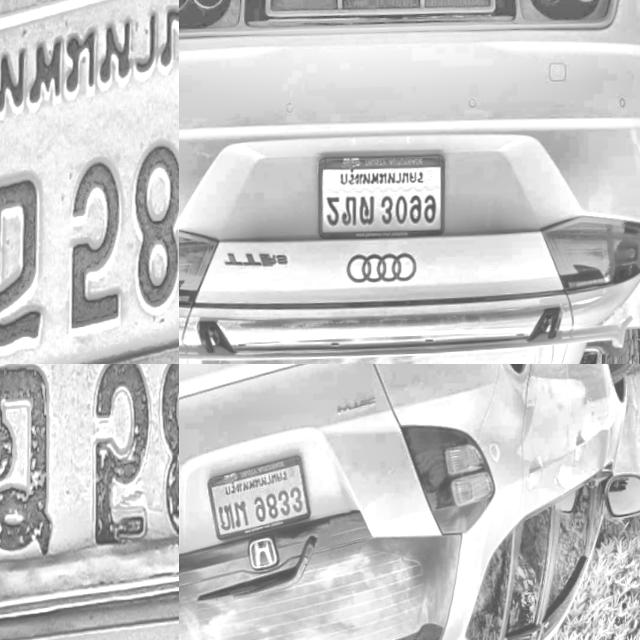license-plate: (0, 0, 179, 364), (0, 364, 179, 640), (315, 148, 453, 244), (205, 448, 319, 543)
